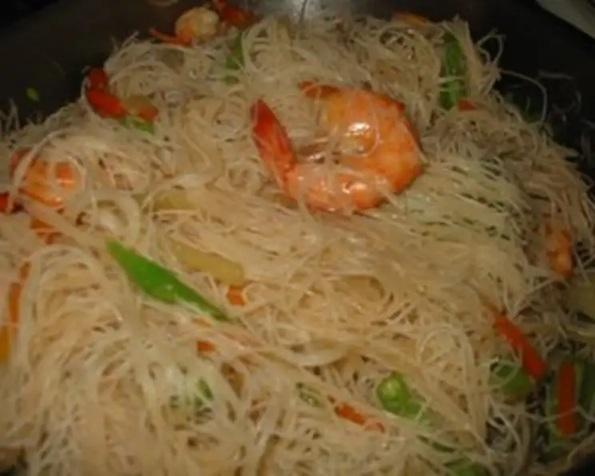pancit bihon: (0, 12, 594, 473)
